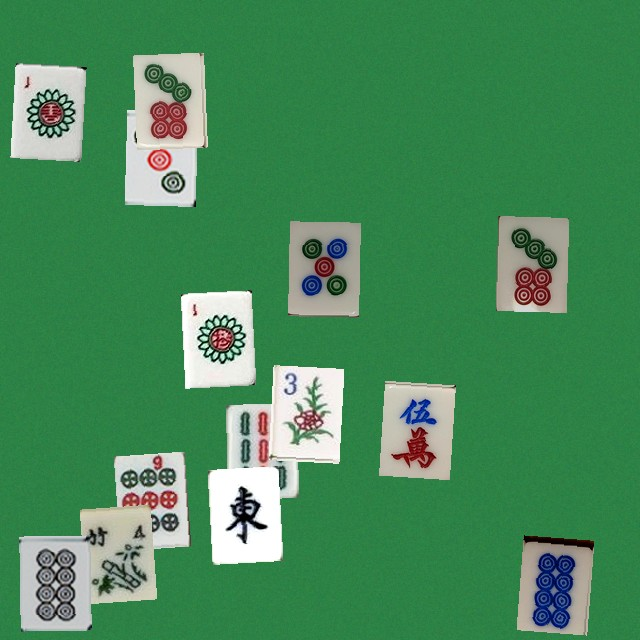tile: (10, 63, 81, 158), (113, 451, 184, 546), (124, 109, 195, 204), (379, 380, 450, 475), (225, 403, 296, 498), (133, 52, 204, 147), (207, 466, 278, 561), (495, 216, 566, 311), (268, 365, 339, 460), (79, 504, 150, 599), (180, 290, 251, 385), (516, 535, 587, 630), (288, 221, 359, 316), (19, 535, 90, 630)
